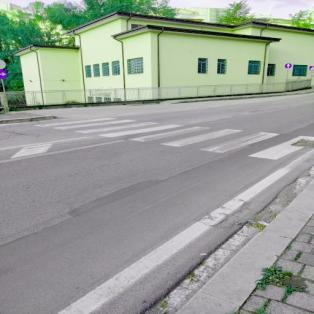Paso de Cebra: (155, 126, 285, 156)
